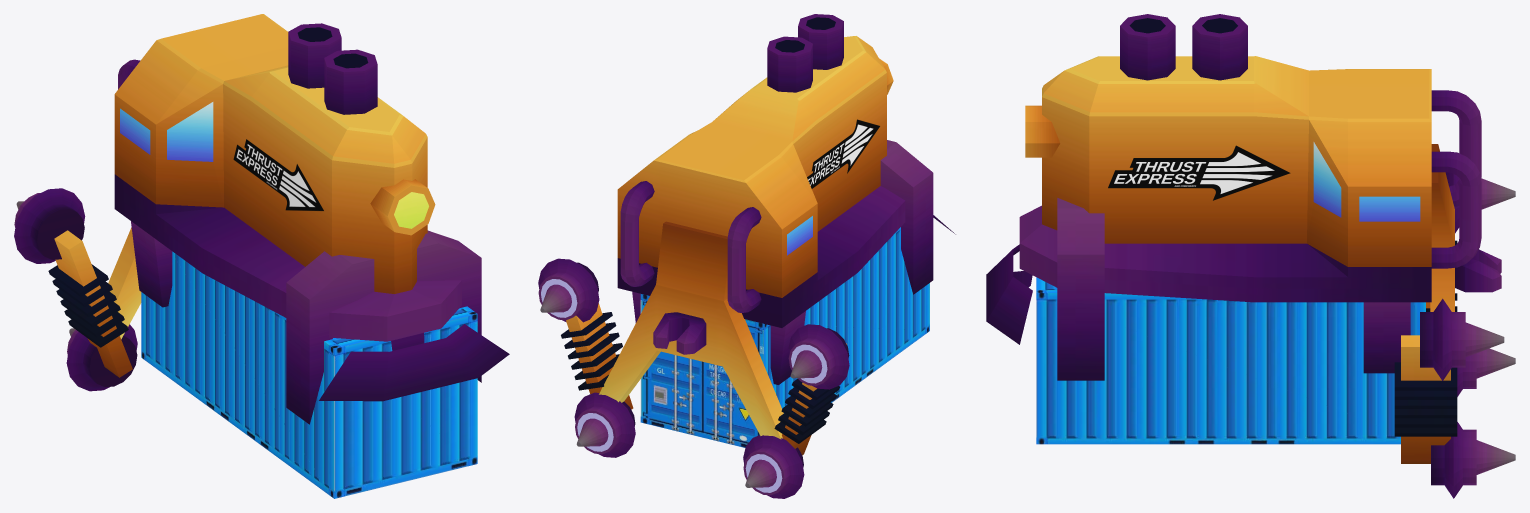
File: spaceship5.glb
3 views of the same model, side by side, from view 1: azimuth 30°, elevation 25°; view 2: azimuth 150°, elevation 25°; view 3: azimuth 270°, elevation 25° (orthographic). The views are drawn at different scales.
Visible parts, largest first — view 1: Cube.046, package.005, Cube.048, Plane.001, Cube.049, Cylinder.014, Cylinder.028, Cylinder.027, Cylinder.026, spaceship.003, Cylinder.015, Cube.047 (+1 smaller); view 2: Cube.046, package.005, Cube.051, Cube.048, Cylinder.014, Cube.050, Cylinder.023, Cylinder.015, Cylinder.017, Cube.049, Cylinder.027, Cylinder.024 (+5 smaller); view 3: Cube.046, package.005, Cube.048, Cube.050, spaceship.002, Cylinder.017, Cylinder.024, Cylinder.028, Cylinder.027, Cylinder.023, Plane.001, Cube.047 (+6 smaller).
Part boxes in pixels (<box>): Cube.046: <box>114,14,461,341</box>; package.005: <box>141,251,477,498</box>; Cube.048: <box>286,230,481,424</box>; Plane.001: <box>319,324,509,401</box>; Cube.049: <box>48,230,132,377</box>; Cylinder.014: <box>14,188,85,263</box>; Cylinder.028: <box>324,49,377,114</box>; Cylinder.027: <box>288,23,341,88</box>; Cylinder.026: <box>370,179,435,235</box>; spaceship.003: <box>233,139,323,210</box>; Cylinder.015: <box>66,324,137,391</box>; Cube.047: <box>131,221,172,307</box>; Cube.046: <box>617,36,905,327</box>; package.005: <box>640,227,929,447</box>; Cube.051: <box>599,221,783,439</box>; Cube.048: <box>880,140,933,294</box>; Cylinder.014: <box>788,324,849,389</box>; Cube.050: <box>561,303,633,409</box>; Cylinder.023: <box>574,392,635,457</box>; Cylinder.015: <box>743,435,804,498</box>; Cylinder.017: <box>538,258,599,322</box>; Cube.049: <box>774,343,846,455</box>; Cylinder.027: <box>767,36,812,92</box>; Cylinder.024: <box>620,181,654,286</box>; Cube.046: <box>1019,56,1431,302</box>; package.005: <box>1036,277,1425,444</box>; Cube.048: <box>1057,198,1104,380</box>; Cube.050: <box>1394,335,1457,463</box>; spaceship.002: <box>1108,145,1290,200</box>; Cylinder.017: <box>1420,298,1504,380</box>; Cylinder.024: <box>1431,151,1481,268</box>; Cylinder.028: <box>1120,14,1175,80</box>; Cylinder.027: <box>1192,14,1247,80</box>; Cylinder.023: <box>1431,422,1515,498</box>; Plane.001: <box>986,244,1032,344</box>; Cube.047: <box>1363,302,1410,373</box>.
Bounding box in the file's own units: 7.69 × 8.34 × 9.51.
Materials: 3 (3 with a texture image).
